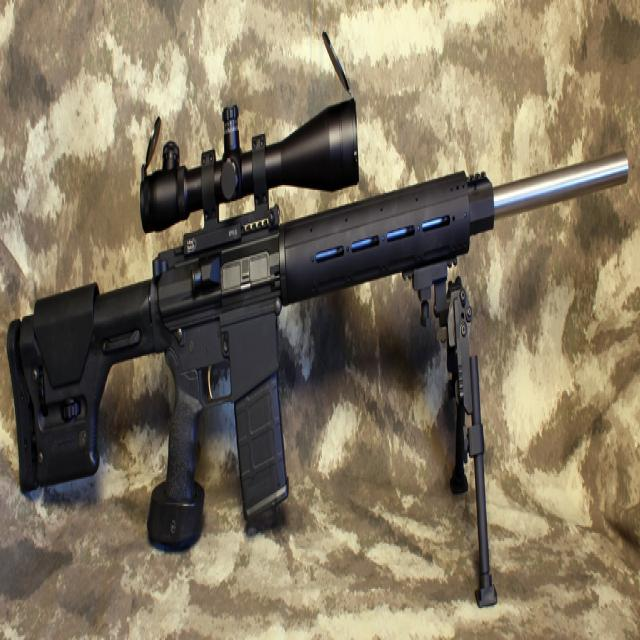Rifle: (6, 99, 631, 555)
